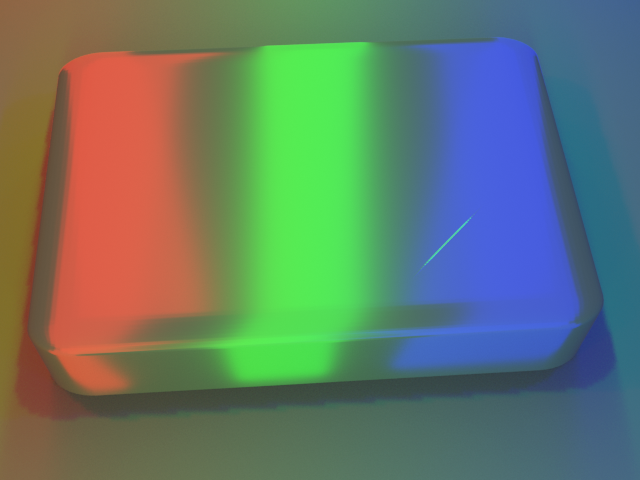scratch: (279, 135, 615, 326)
